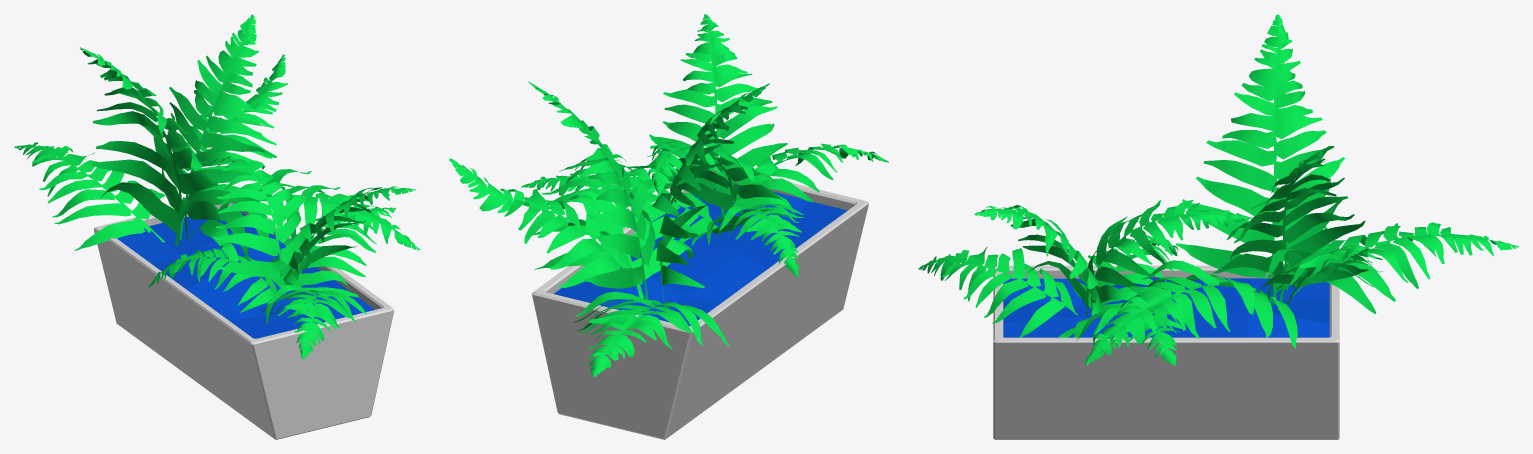
File: SM_Hallway_Plant_02.fbx
The picture shows the model from 3 angles, left to right: view 1: azimuth 30°, elevation 25°; view 2: azimuth 150°, elevation 25°; view 3: azimuth 270°, elevation 25°; orthographic projection. The views are drawn at different scales.
Parts seen in each view (by area): view 1: FernPlant; view 2: FernPlant; view 3: FernPlant.
Part boxes in pixels (x1,y1,x2,y2): FernPlant: (14,14,420,439); FernPlant: (449,14,888,439); FernPlant: (918,14,1518,439).
Size of what is drawn, in the model's own units: 125 by 139 by 222.
